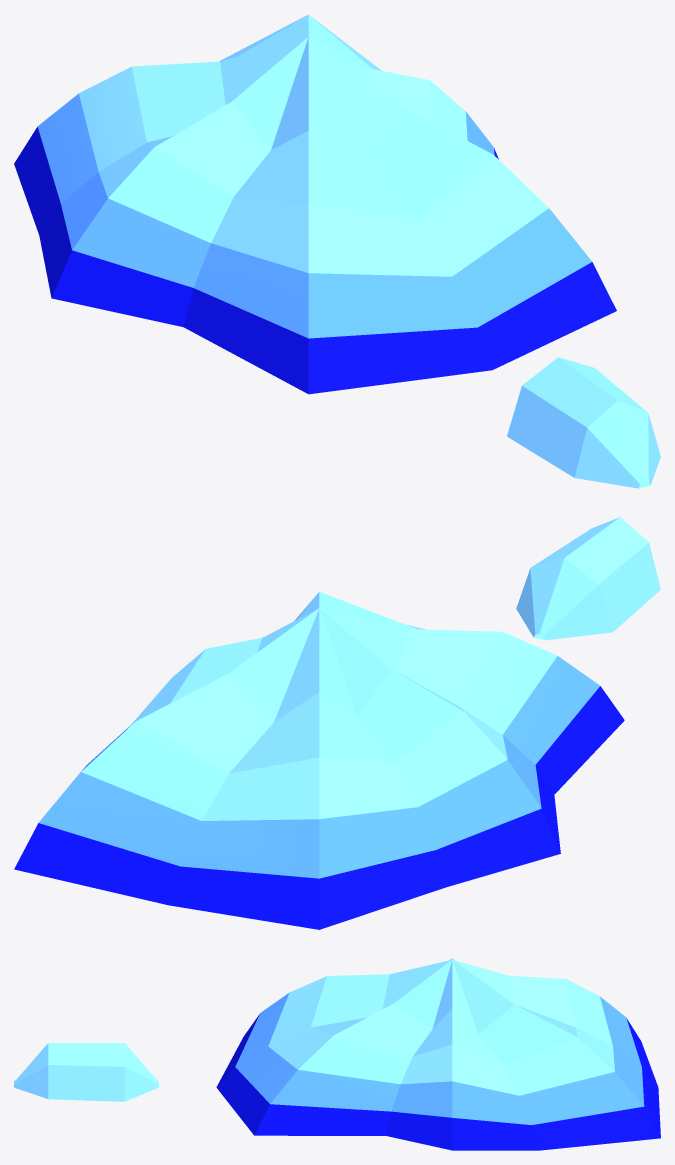
File: shot_ice_149.glb
3 views of the same model, one above another, from view 1: azimuth 30°, elevation 25°; view 2: azimuth 150°, elevation 25°; view 3: azimuth 270°, elevation 25° (orthographic). The views are drawn at different scales.
Parts seen in each view (by area): view 1: shot_ice_149_cap, shot_ice_149_trail; view 2: shot_ice_149_cap, shot_ice_149_trail; view 3: shot_ice_149_cap, shot_ice_149_trail.
Boxes of the visible parts, bbox=[...] form: shot_ice_149_cap: bbox=[14, 14, 616, 394]; shot_ice_149_trail: bbox=[507, 357, 660, 488]; shot_ice_149_cap: bbox=[14, 591, 624, 929]; shot_ice_149_trail: bbox=[516, 517, 660, 640]; shot_ice_149_cap: bbox=[216, 958, 660, 1150]; shot_ice_149_trail: bbox=[14, 1043, 158, 1101].
Bounding box in the file's own units: 4.46 × 1.85 × 8.48.
